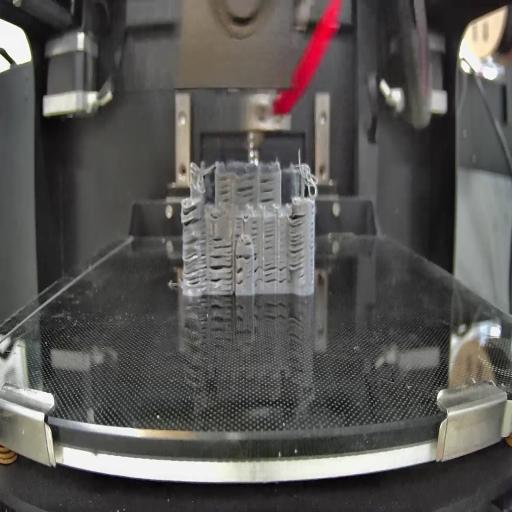cracks: (182, 202, 207, 287), (209, 236, 233, 290), (288, 212, 306, 270), (264, 257, 287, 285), (237, 180, 257, 202), (259, 176, 275, 202), (218, 176, 233, 203), (262, 219, 275, 250), (236, 252, 261, 261), (234, 216, 243, 237), (236, 266, 244, 286), (255, 266, 261, 288), (252, 219, 258, 240), (242, 241, 252, 248)
